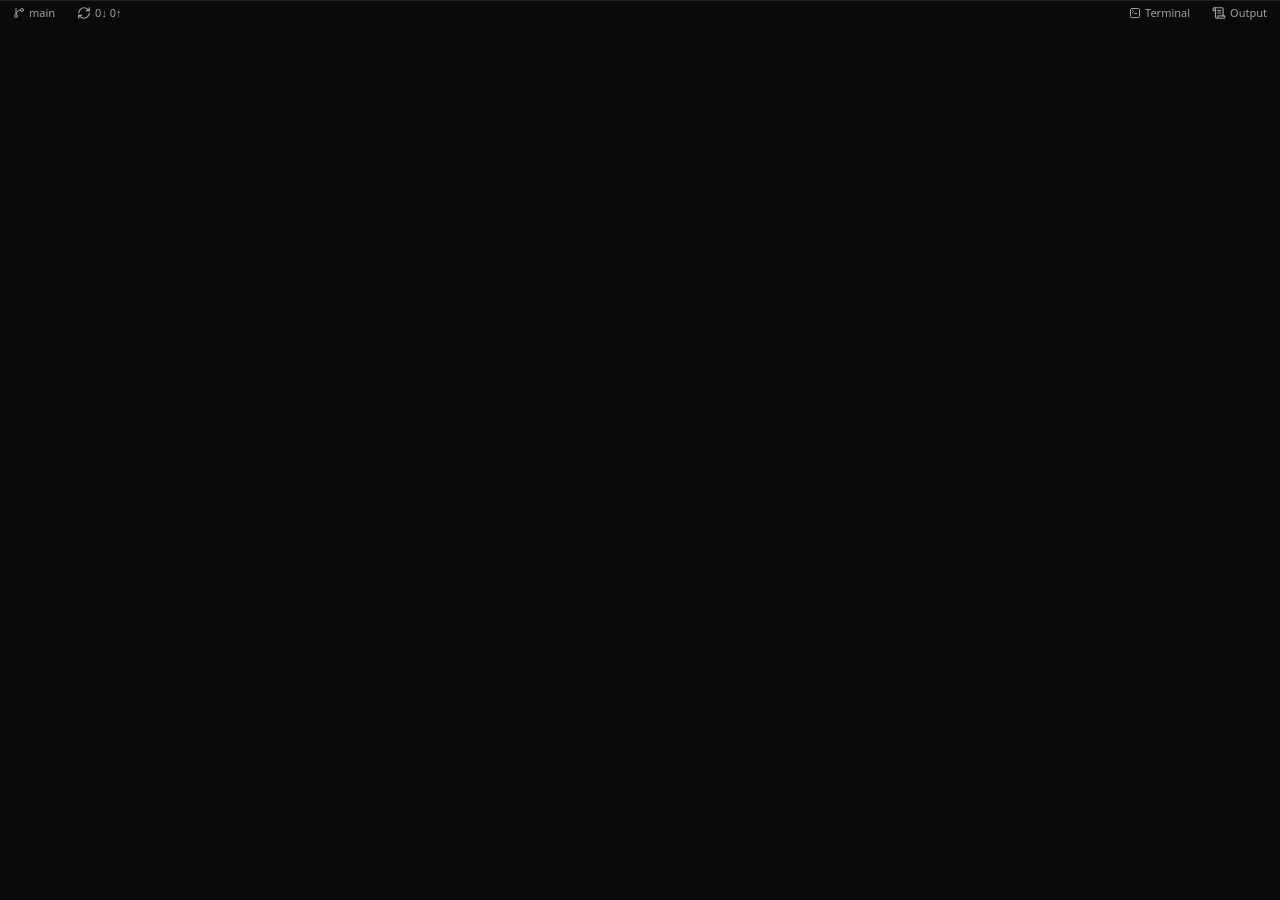
branch picker › lists local branches with the current one checked, then remote-only ones, and fetches
Click the button with aria-label "Branch main".
click(34, 12)  # box [4,0,64,24]
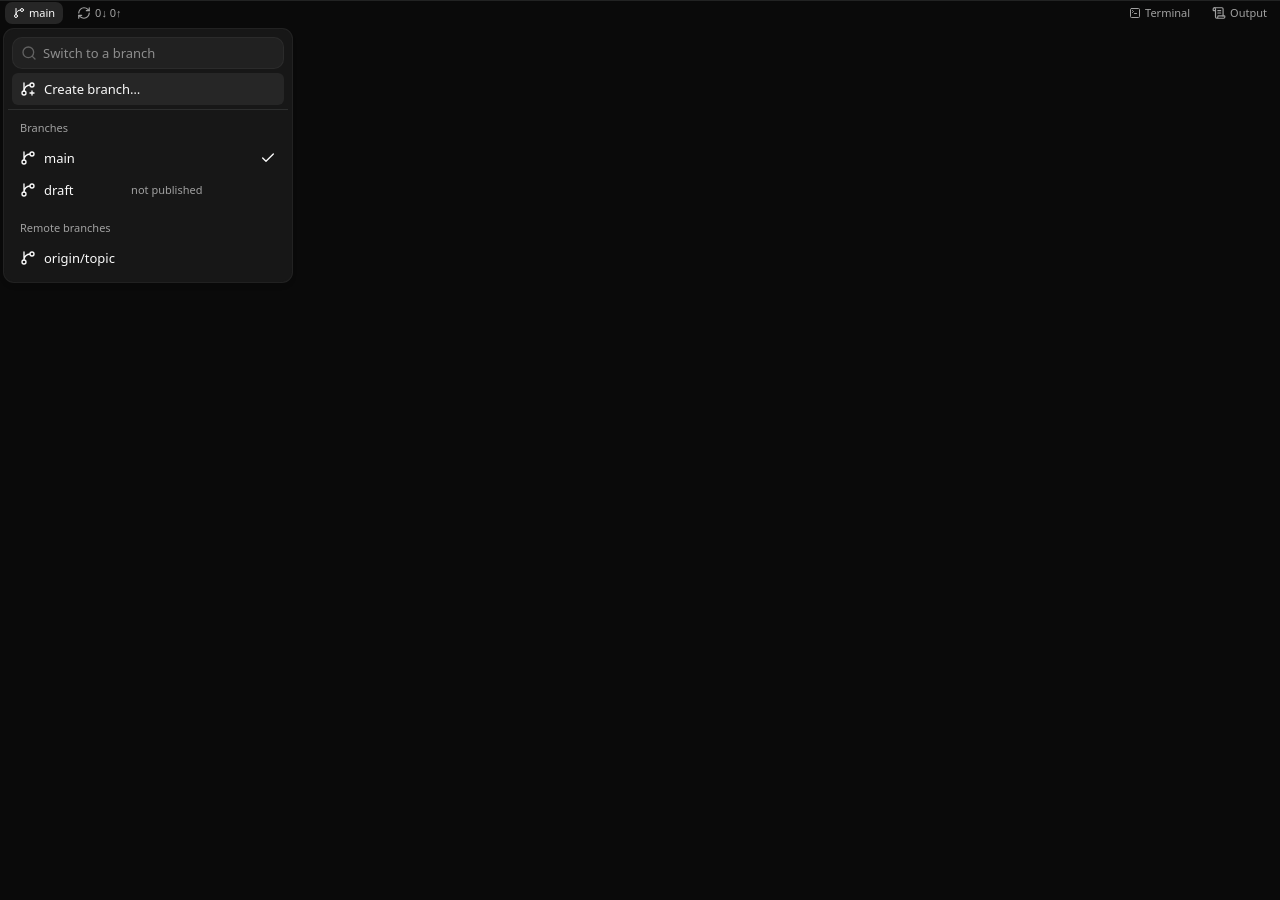
Result: the dropdown with placeholder "Switch to a branch" is shown at [37,43,283,63]
Result: the text "not published" is shown at [131,182,202,198]
Result: the option "origin/topic" is shown at [20,249,115,267]
